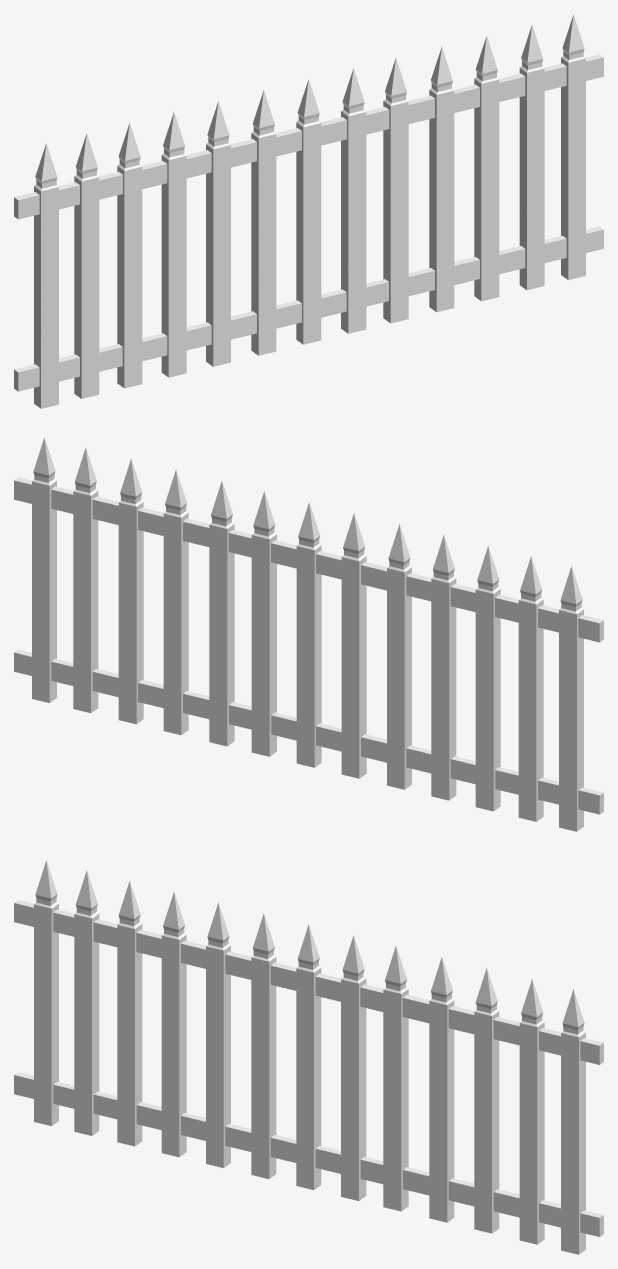
Rendered from Fence.fbx.
The picture shows the model from 3 angles, top to bottom: view 1: azimuth 30°, elevation 25°; view 2: azimuth 150°, elevation 25°; view 3: azimuth 330°, elevation 25°; orthographic projection.
Parts seen in each view (by area): view 1: Fence; view 2: Fence; view 3: Fence.
Part boxes in pixels (<box>): Fence: <box>14,14,603,408</box>; Fence: <box>14,437,603,831</box>; Fence: <box>14,860,603,1254</box>.
Size of the model in its own units: 72.03 by 30.71 by 1.54.
1 material, 1 textured.
